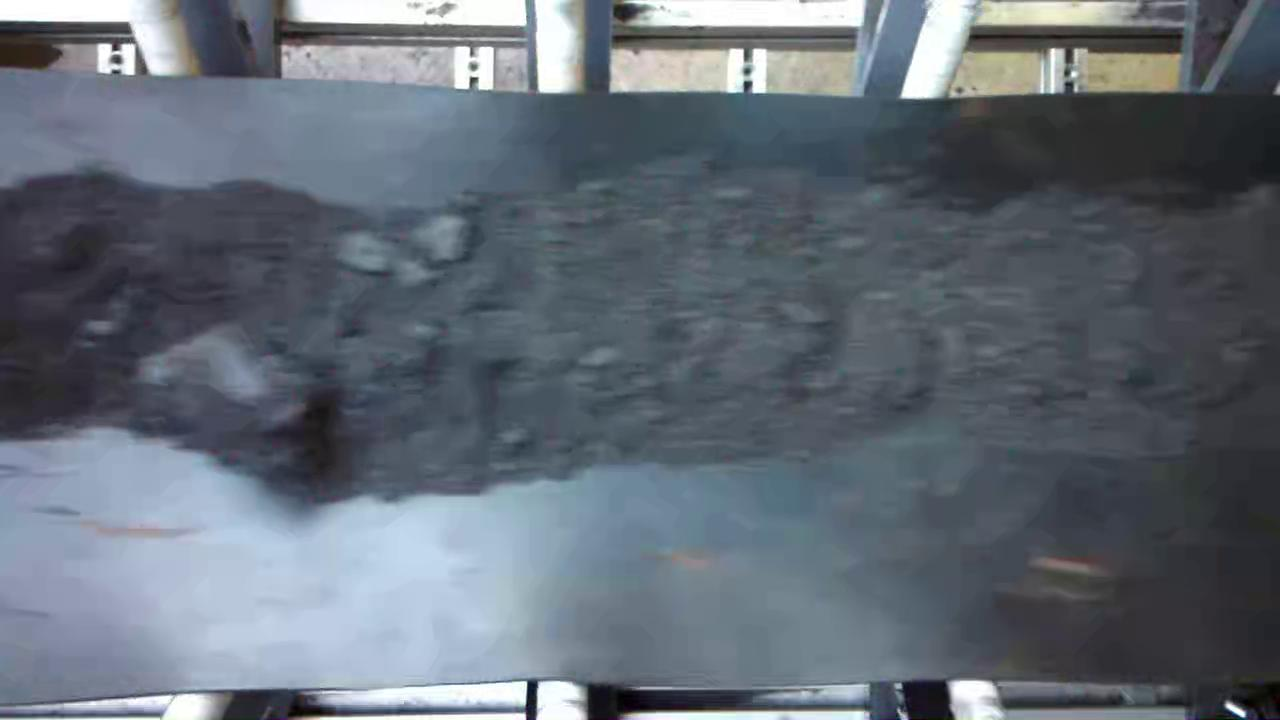conveyor: (3, 101, 1280, 676)
